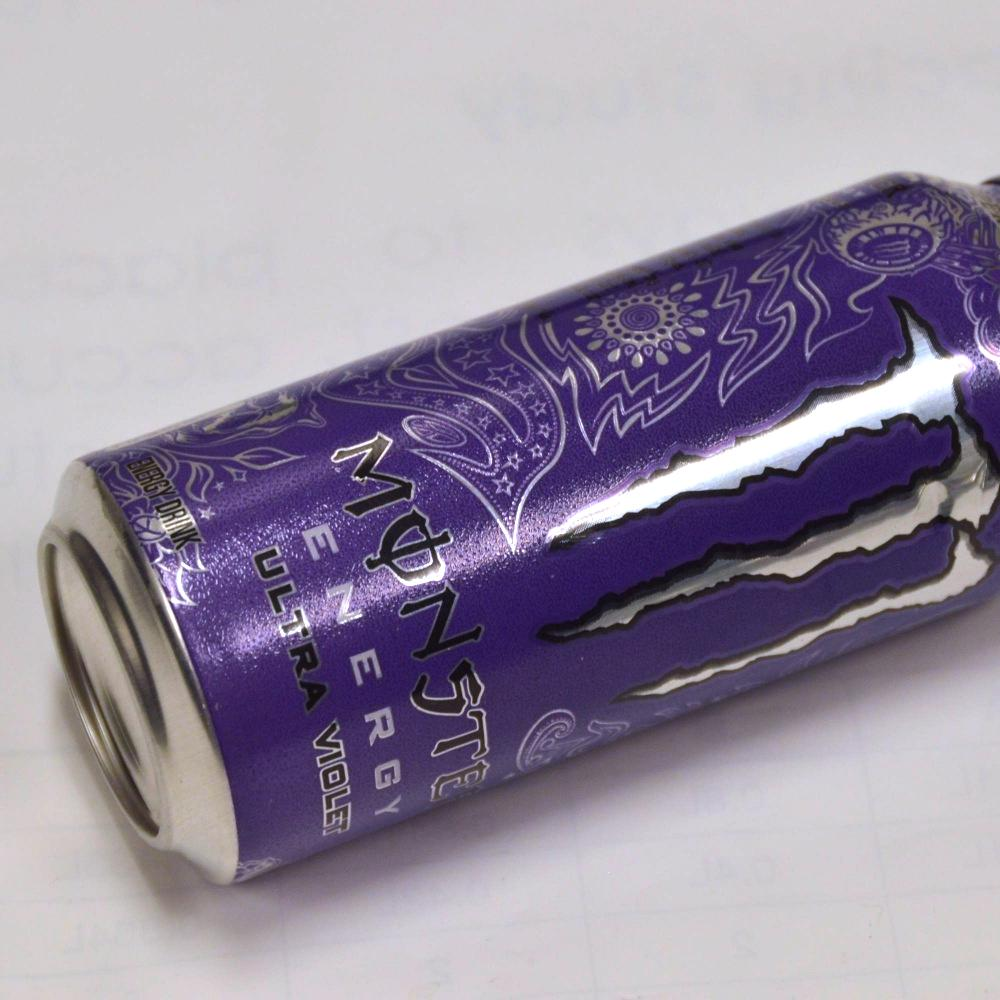Metal: (50, 105, 930, 885)
